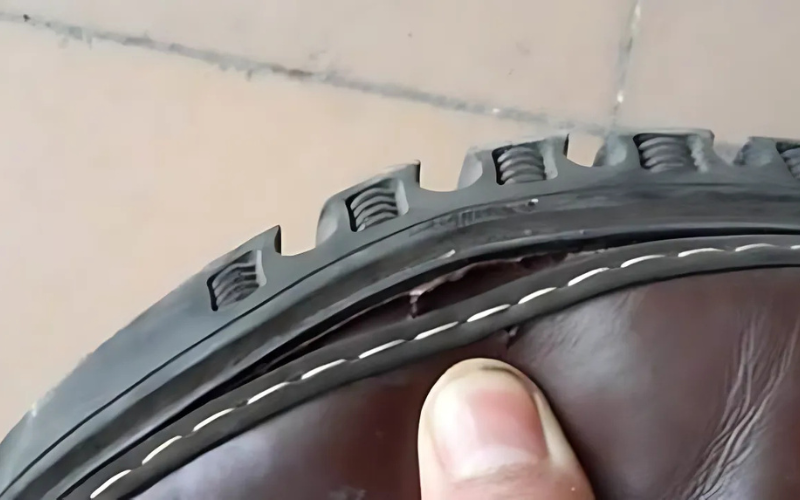bonding: (216, 218, 765, 397)
